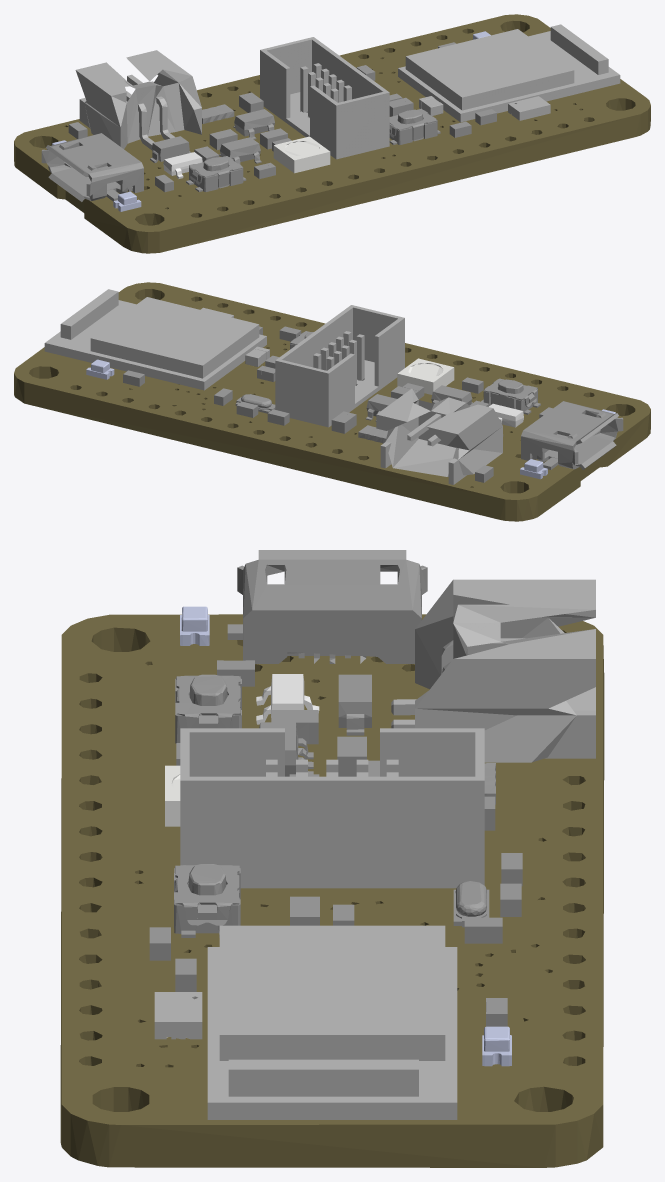
File: adafruit-4062-feather-nrf52840.glb
3 views of the same model, one above another, from view 1: azimuth 30°, elevation 25°; view 2: azimuth 150°, elevation 25°; view 3: azimuth 270°, elevation 25° (orthographic). The views are drawn at different scales.
Visible parts, largest first — view 1: colour 1, colour 2, colour 3, colour 6, colour 5, colour 4; view 2: colour 1, colour 2, colour 3, colour 6, colour 4, colour 5; view 3: colour 1, colour 2, colour 3, colour 4, colour 5, colour 6.
Part boxes in pixels (left/top/right/bottom): colour 1: left=14, top=14, right=650, bottom=253; colour 2: left=75, top=24, right=620, bottom=159; colour 3: left=41, top=42, right=496, bottom=201; colour 6: left=273, top=136, right=330, bottom=173; colour 5: left=163, top=152, right=202, bottom=178; colour 4: left=52, top=31, right=490, bottom=211; colour 1: left=14, top=282, right=650, bottom=521; colour 2: left=44, top=289, right=502, bottom=484; colour 3: left=123, top=326, right=623, bottom=482; colour 6: left=397, top=358, right=454, bottom=394; colour 4: left=86, top=359, right=615, bottom=479; colour 5: left=489, top=403, right=523, bottom=427; colour 1: left=60, top=614, right=604, bottom=1167; colour 2: left=154, top=579, right=595, bottom=1119; colour 3: left=149, top=550, right=522, bottom=1026; colour 4: left=180, top=606, right=511, bottom=1066; colour 5: left=256, top=674, right=319, bottom=724; colour 6: left=165, top=765, right=180, bottom=826.
Size of the model in its own units: 0.0515 by 0.00699 by 0.0229.
